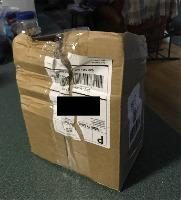damaged package: (23, 31, 73, 86)
undamaged: (7, 25, 152, 198)
